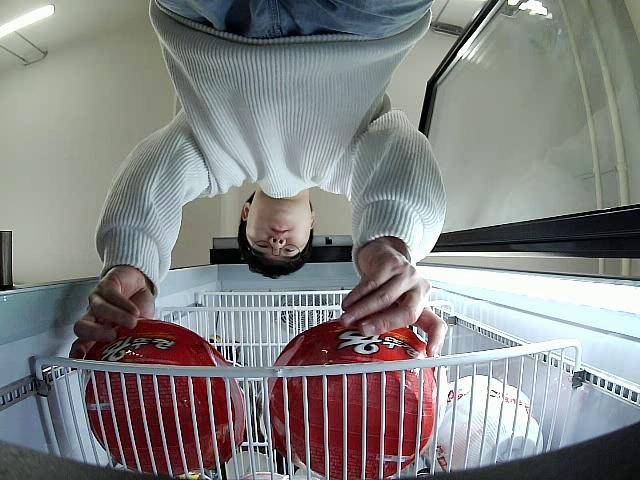00_hand: (339, 233, 449, 357), (69, 266, 155, 361)
10_wangTtukkeong: (271, 319, 445, 479), (84, 319, 245, 476)
